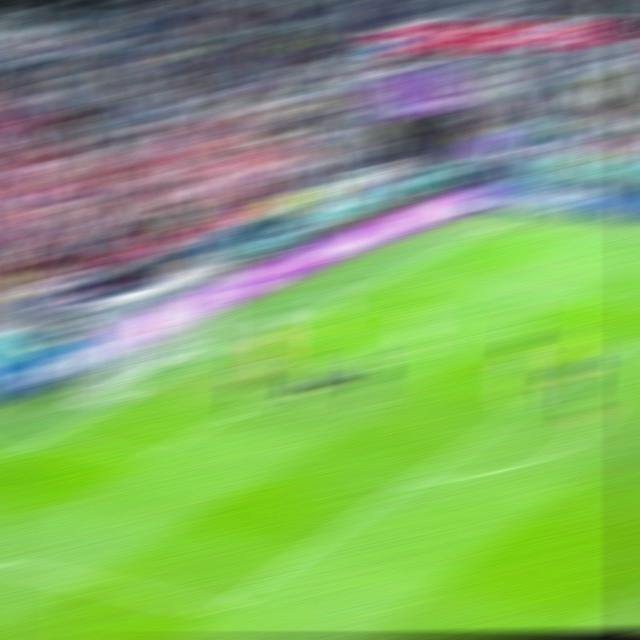bigarea_bottom_inner: (195, 587, 245, 632)
bigarea_top_outter: (370, 272, 402, 284)
bottom_arc_area_intersection: (386, 466, 434, 500)
corner: (484, 221, 513, 229)
smallarea_bottom_inner: (128, 449, 165, 469)
smallarea_bottom_outter: (24, 431, 59, 449)
smallarea_top_inner: (349, 339, 380, 345)
top_arc_area_intersection: (553, 375, 581, 385)
